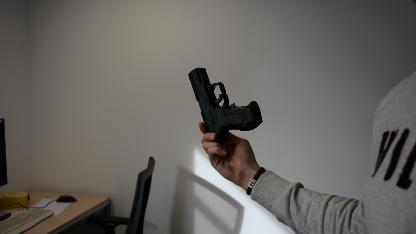pistol: (187, 66, 262, 144)
